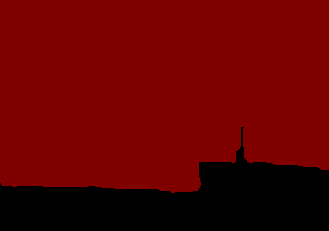Sky: (1, 1, 328, 192)
